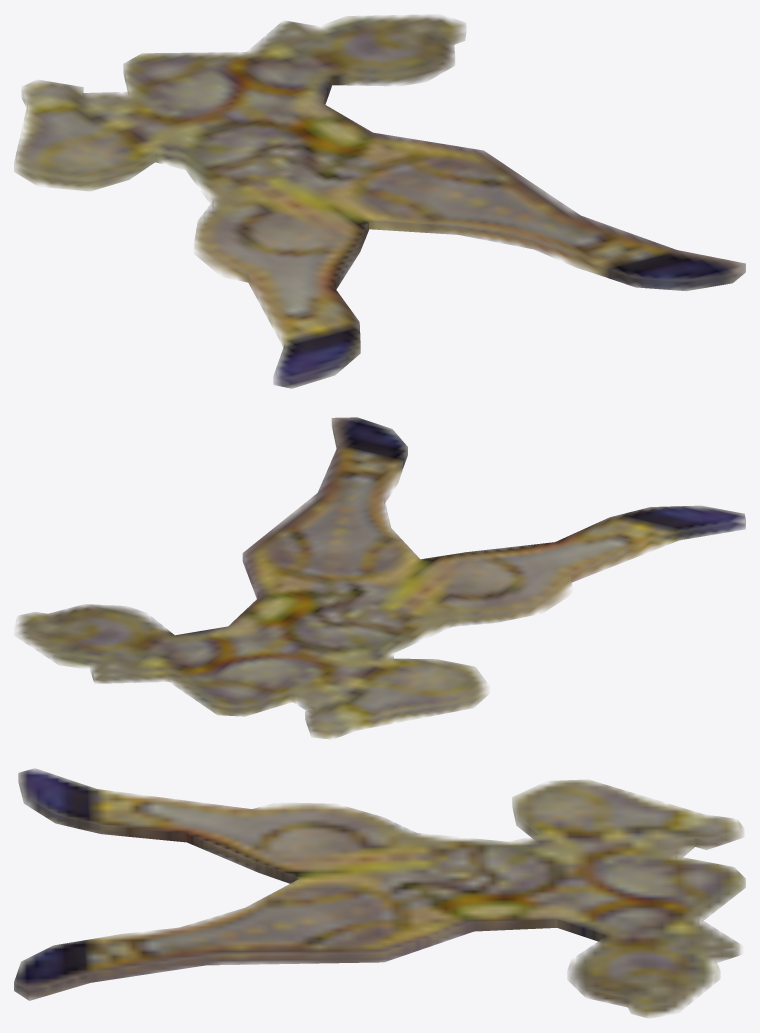
The model's file is MaySang.glb.
3 renders of one model, top to bottom at view 1: azimuth 30°, elevation 25°; view 2: azimuth 150°, elevation 25°; view 3: azimuth 270°, elevation 25°, orthographic. The views are drawn at different scales.
Visible parts, largest first — view 1: MaySang; view 2: MaySang; view 3: MaySang.
Boxes of the visible parts, <box> form: MaySang: <box>14,15,745,388</box>; MaySang: <box>15,417,745,738</box>; MaySang: <box>14,768,745,1017</box>.
Bounding box in the file's own units: 0.2987 × 0.005 × 0.3819.
1 material, 1 textured.
